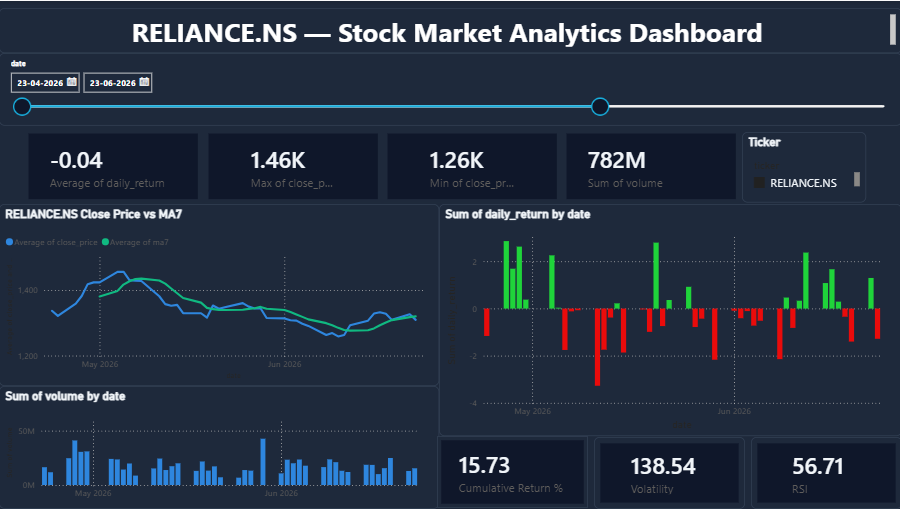

This screenshot's page, from the dashboard's own definition file:
{"tool":"powerbi","page":{"name":"Project","canvas":[1280,720],"ordinal":0},"visuals":[{"type":"lineChart","title":"RELIANCE.NS Close Price vs MA7","fields":{"Y":["Avg(stock_analytics stock_prices.close_price)","Avg(stock_analytics stock_prices.ma7)"],"Category":["stock_analytics stock_prices.date"]},"box":[0,287.7,623.6,258],"z":0},{"type":"slicer","title":"Ticker","fields":{"Values":["stock_analytics stock_prices.ticker"]},"box":[1053.1,185.7,176,100],"z":1000},{"type":"columnChart","fields":{"Y":["Sum(stock_analytics stock_prices.volume)"],"Category":["stock_analytics stock_prices.date"]},"box":[0,545.7,623.6,174.3],"z":2000},{"type":"cardVisual","fields":{"Data":["Avg(stock_analytics stock_prices.daily_return)"]},"box":[36.9,182.8,250.9,103.5],"z":3000},{"type":"cardVisual","fields":{"Data":["Max(stock_analytics stock_prices.close_price)"]},"box":[291.6,182.8,250,103.5],"z":4000},{"type":"textbox","box":[0,9.9,1279.8,63.8],"z":7000},{"type":"slicer","fields":{"Values":["stock_analytics stock_prices.date"]},"box":[0,73.7,1279.8,103.5],"z":8000},{"type":"cardVisual","fields":{"Data":["stock_analytics stock_prices.Cumulative Return %"]},"box":[620.9,616.5,214,102],"z":10000},{"type":"cardVisual","fields":{"Data":["stock_analytics stock_prices.Volatility"]},"box":[843.4,618,214,102],"z":11000},{"type":"cardVisual","fields":{"Data":["stock_analytics stock_prices.RSI"]},"box":[1065.9,618,214,102],"z":12000},{"type":"cardVisual","fields":{"Data":["Min(stock_analytics stock_prices.close_price)"]},"box":[545.4,182.8,250,103.5],"z":12002},{"type":"cardVisual","fields":{"Data":["Sum(stock_analytics stock_prices.volume)"]},"box":[799.2,182.8,250,103.5],"z":12003},{"type":"clusteredColumnChart","fields":{"Y":["Sum(stock_analytics stock_prices.daily_return)"],"Category":["stock_analytics stock_prices.date"]},"box":[623.6,287.7,656.2,328.8],"z":12004}]}

Visuals, with their boxes in screenshot pixels (x1, y1, x2, y2), scaled from the page's 1280x720 canvas onto the 900x509 screenshot:
"RELIANCE.NS Close Price vs MA7" lineChart: bbox=(0, 203, 438, 386)
"Ticker" slicer: bbox=(740, 131, 864, 202)
columnChart - Sum(stock_analytics stock_prices.volume) x stock_analytics stock_prices.date: bbox=(0, 386, 438, 508)
cardVisual - Avg(stock_analytics stock_prices.daily_return): bbox=(26, 129, 202, 202)
cardVisual - Max(stock_analytics stock_prices.close_price): bbox=(205, 129, 381, 202)
textbox: bbox=(0, 7, 899, 52)
slicer - stock_analytics stock_prices.date: bbox=(0, 52, 899, 125)
cardVisual - stock_analytics stock_prices.Cumulative Return %: bbox=(437, 436, 587, 508)
cardVisual - stock_analytics stock_prices.Volatility: bbox=(593, 437, 743, 508)
cardVisual - stock_analytics stock_prices.RSI: bbox=(749, 437, 899, 508)
cardVisual - Min(stock_analytics stock_prices.close_price): bbox=(383, 129, 559, 202)
cardVisual - Sum(stock_analytics stock_prices.volume): bbox=(562, 129, 738, 202)
clusteredColumnChart - Sum(stock_analytics stock_prices.daily_return) x stock_analytics stock_prices.date: bbox=(438, 203, 899, 436)
